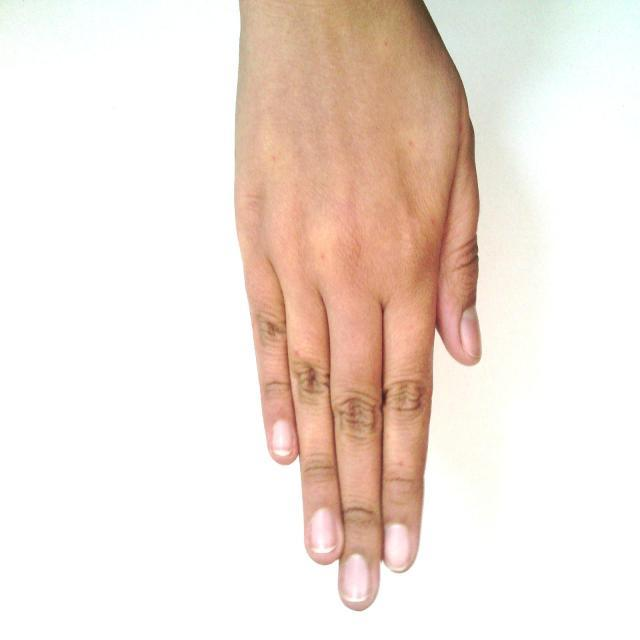Fingernail: (308, 509, 338, 552), (342, 555, 370, 601), (385, 524, 411, 568), (461, 308, 482, 357), (272, 421, 293, 454)
